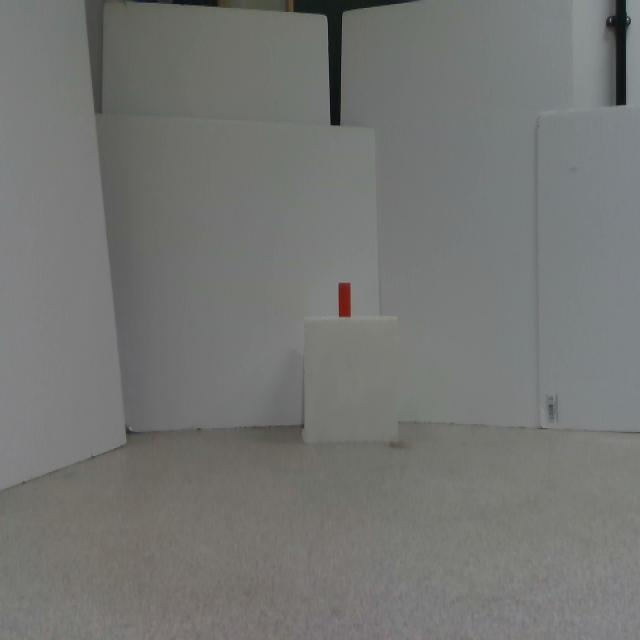red_cylinder: (339, 283, 350, 316)
